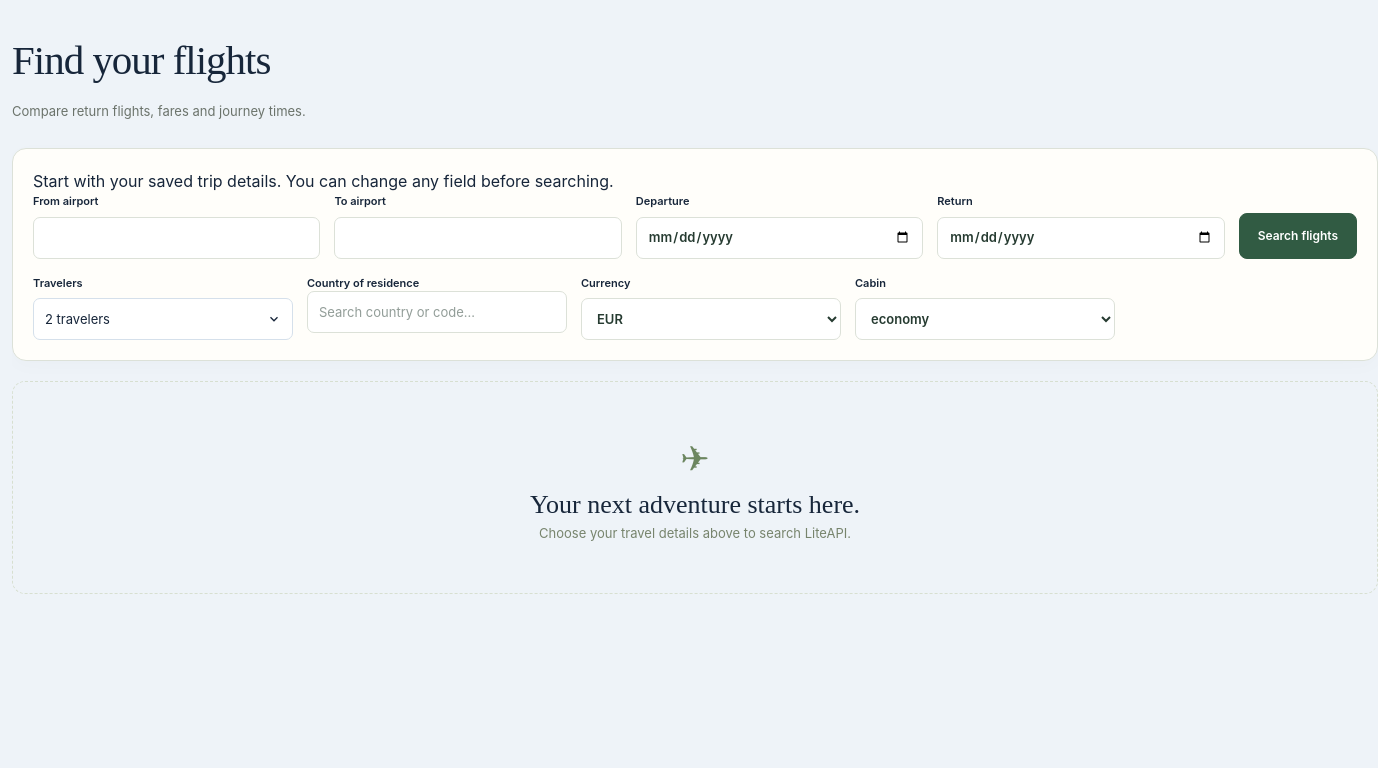
Test: confirmed airport choices are required even when both text inputs are filled
Type "BUD" into the field labelled "From airport" at (177, 238), box [33, 217, 320, 259]
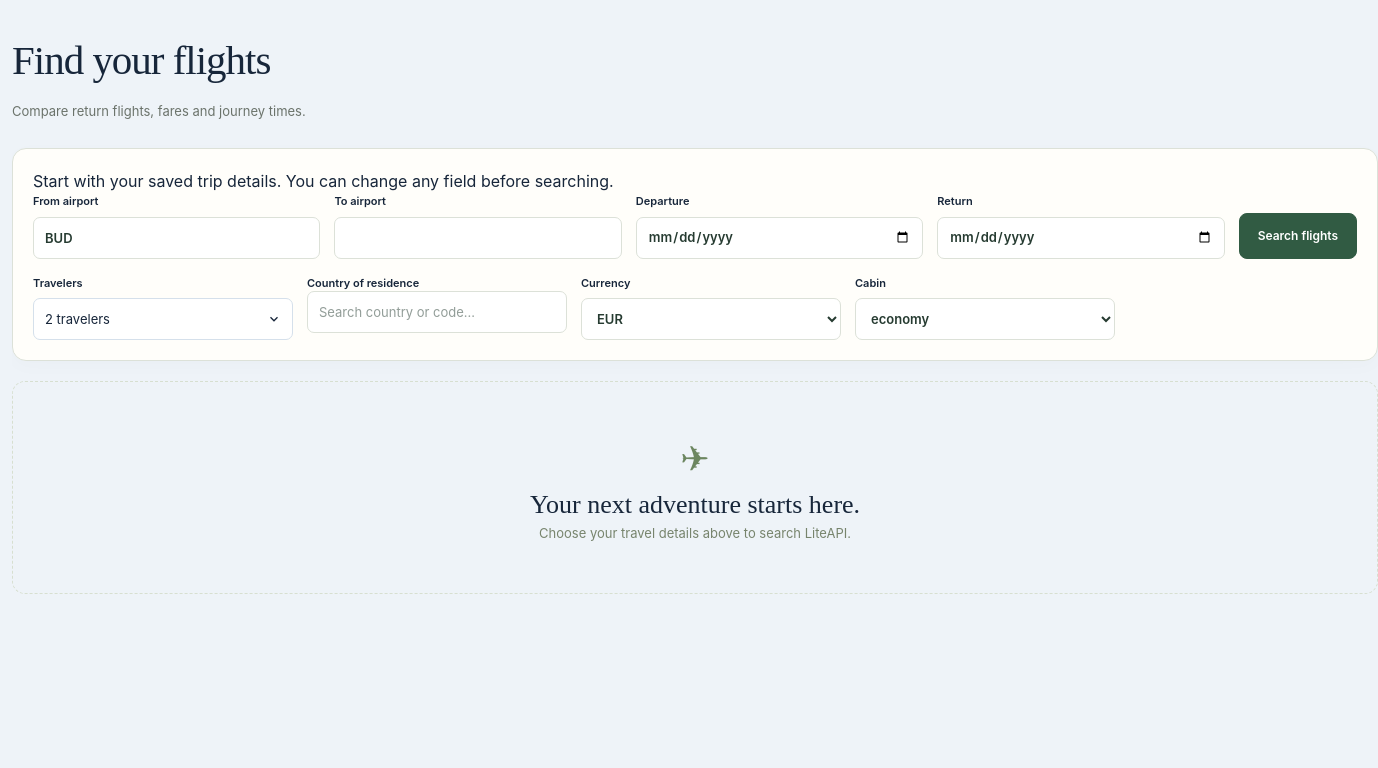
Type "FCO" into the field labelled "To airport" at (478, 238), box [334, 217, 622, 259]
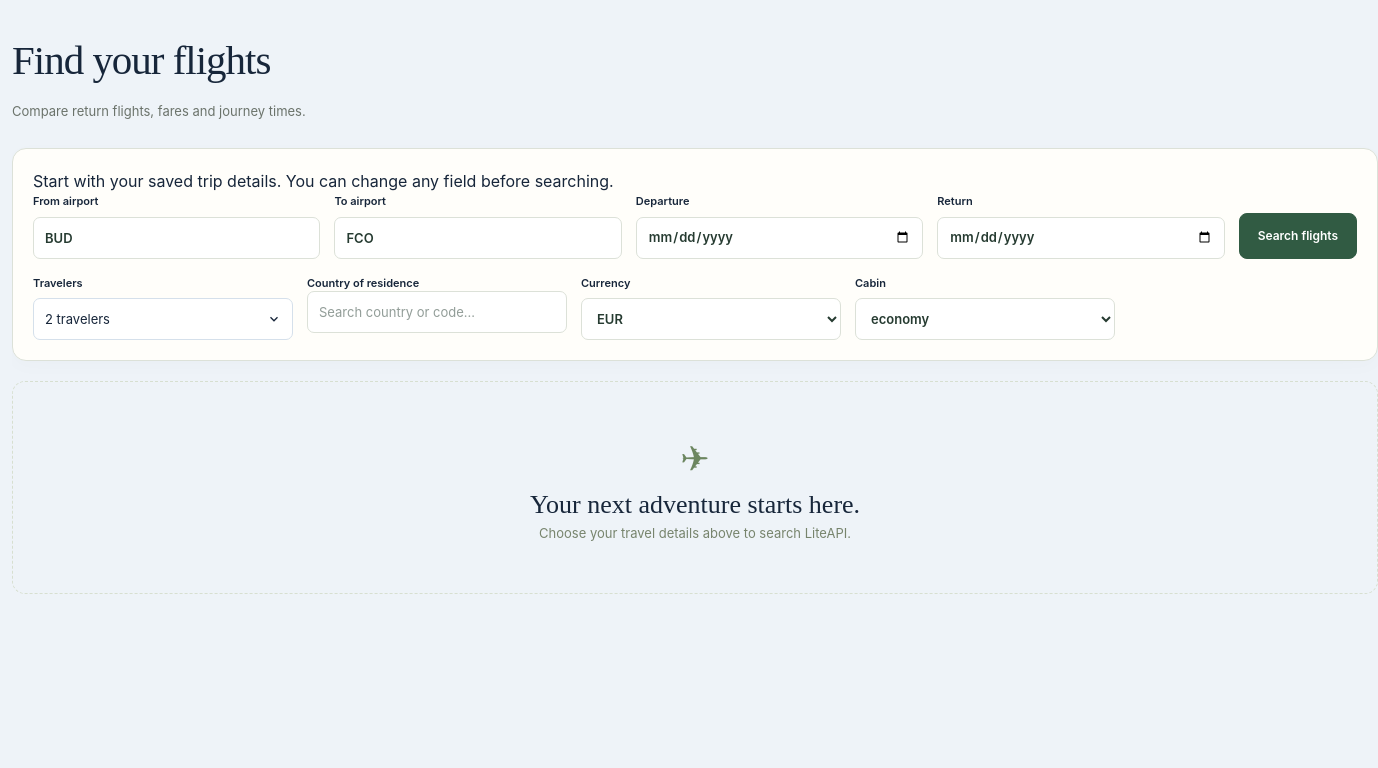
Submit the form named "Search flights", box [12, 148, 1377, 361]
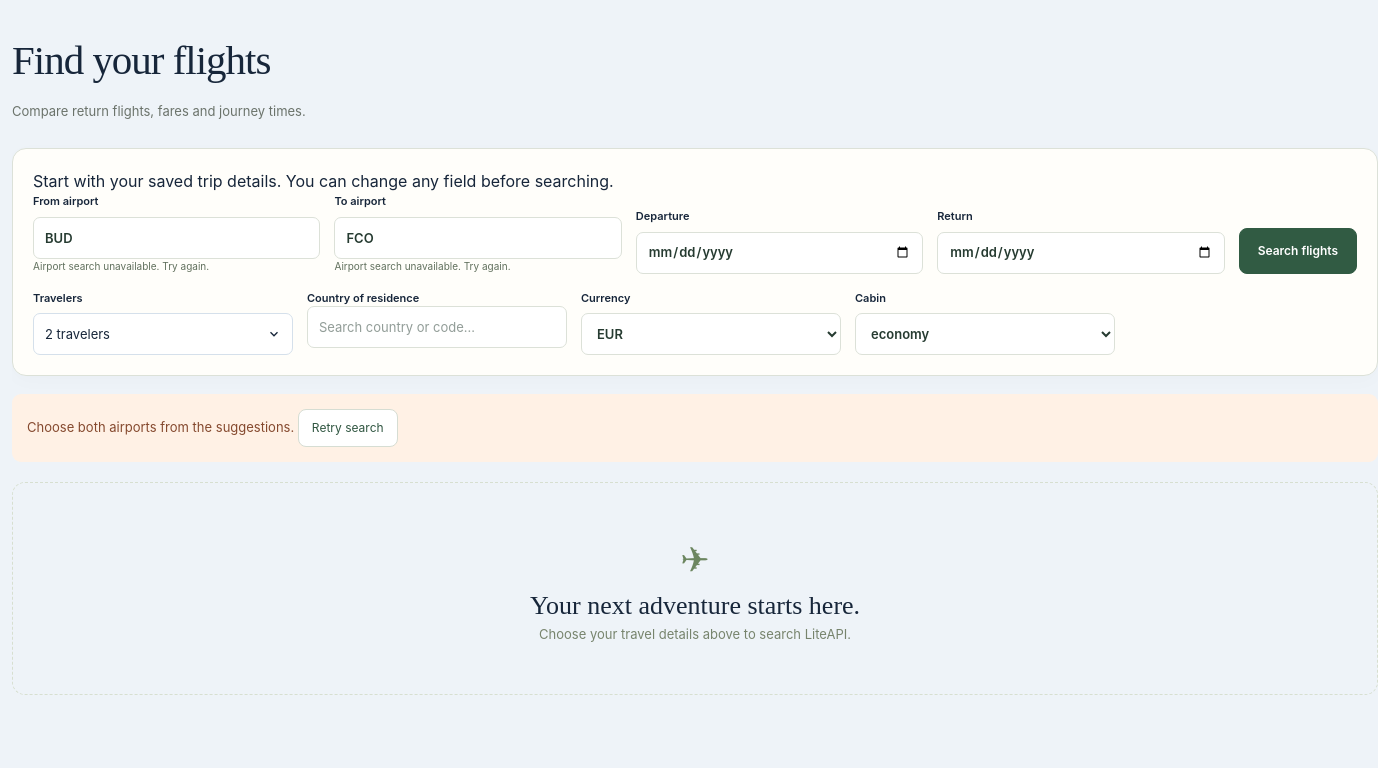
Check: the text "Choose both airports from the suggestions." is shown, box [27, 419, 294, 435]
